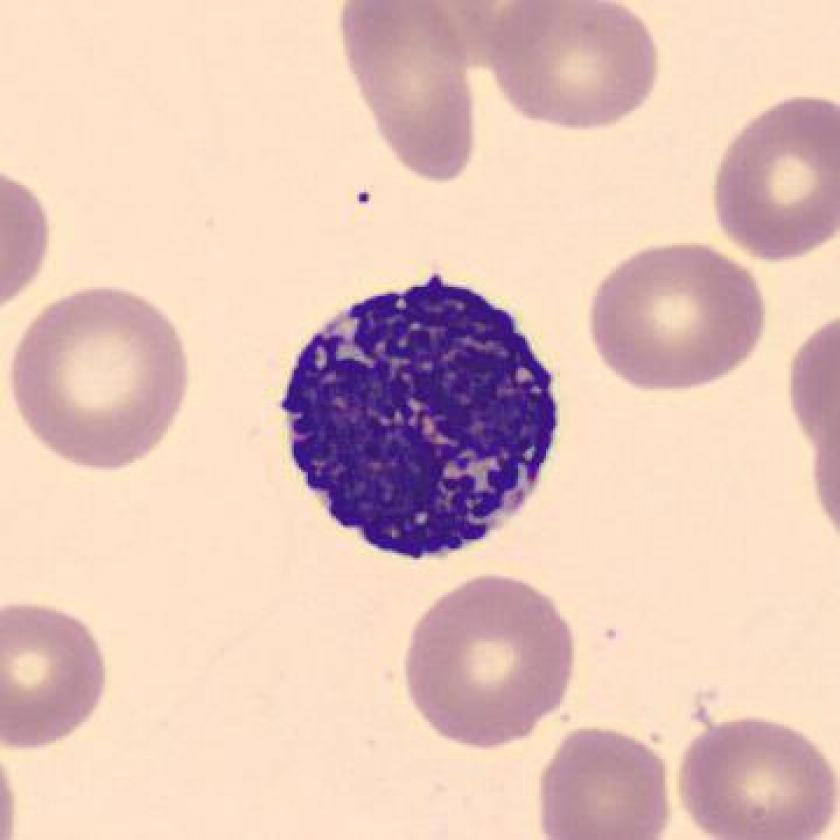basophil: (269, 272, 582, 568)
